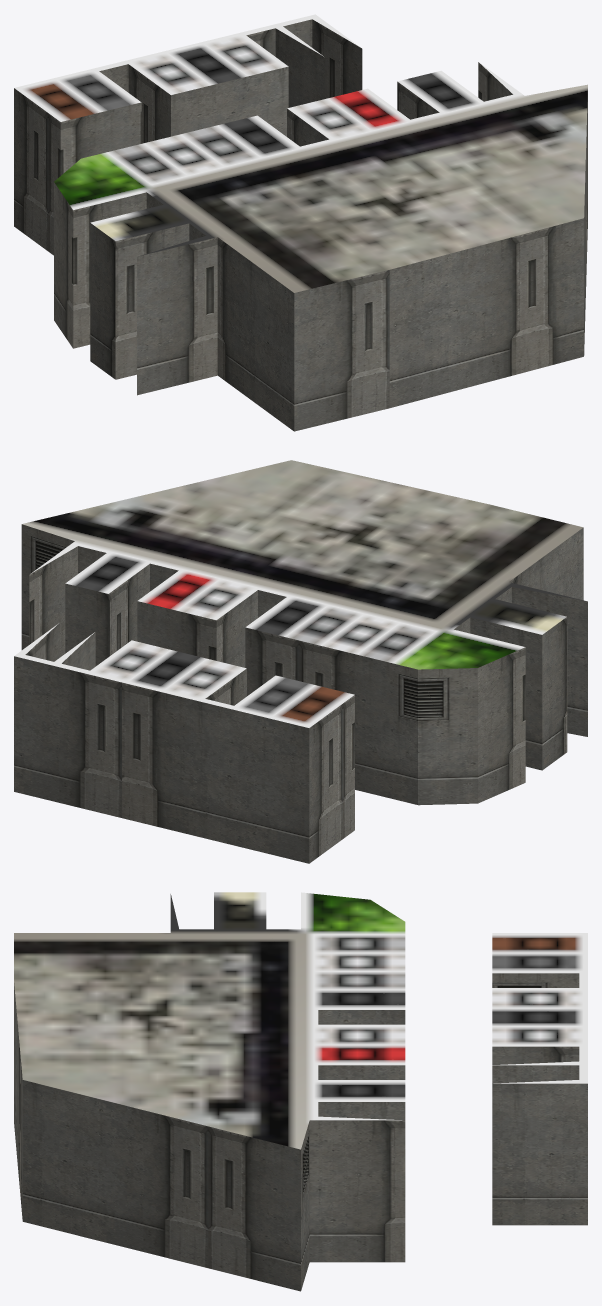
Rendered from BuildingSystem-03-Advance-04-ReinforcedLow-G-099-01.glb.
The picture shows the model from 3 angles, top to bottom: view 1: azimuth 30°, elevation 25°; view 2: azimuth 150°, elevation 25°; view 3: azimuth 270°, elevation 25°; orthographic projection. The views are drawn at different scales.
Parts seen in each view (by area): view 1: buildings/saxarba/SMV_Buildings/BuildingSystem-03-Advance-04; view 2: buildings/saxarba/SMV_Buildings/BuildingSystem-03-Advance-04; view 3: buildings/saxarba/SMV_Buildings/BuildingSystem-03-Advance-04.
Boxes of the visible parts, bbox=[...] form: buildings/saxarba/SMV_Buildings/BuildingSystem-03-Advance-04: bbox=[14, 14, 587, 431]; buildings/saxarba/SMV_Buildings/BuildingSystem-03-Advance-04: bbox=[14, 460, 587, 863]; buildings/saxarba/SMV_Buildings/BuildingSystem-03-Advance-04: bbox=[14, 892, 587, 1291].
Bounding box in the file's own units: 70 × 18 × 66.
